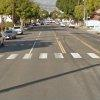Crosswalk: (5, 45, 99, 72)
